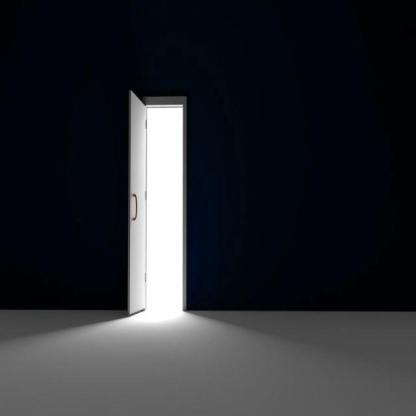door: (125, 84, 192, 322)
